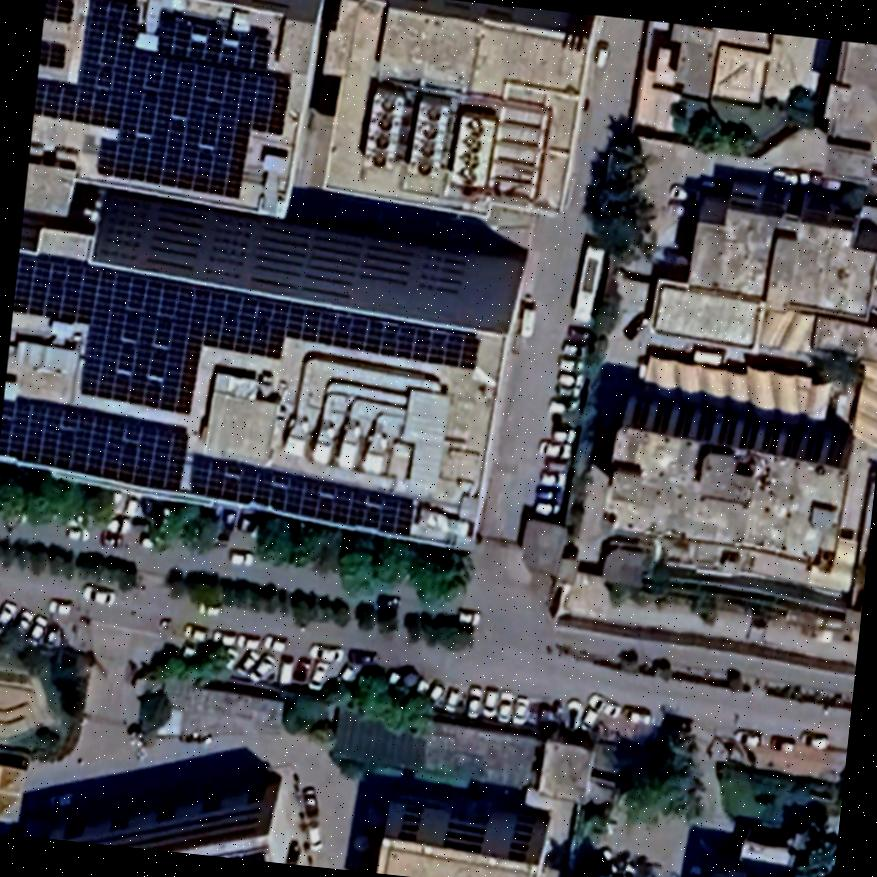Solarpanel: (4, 244, 486, 461), (31, 0, 297, 208), (183, 452, 414, 541), (0, 389, 189, 495)
